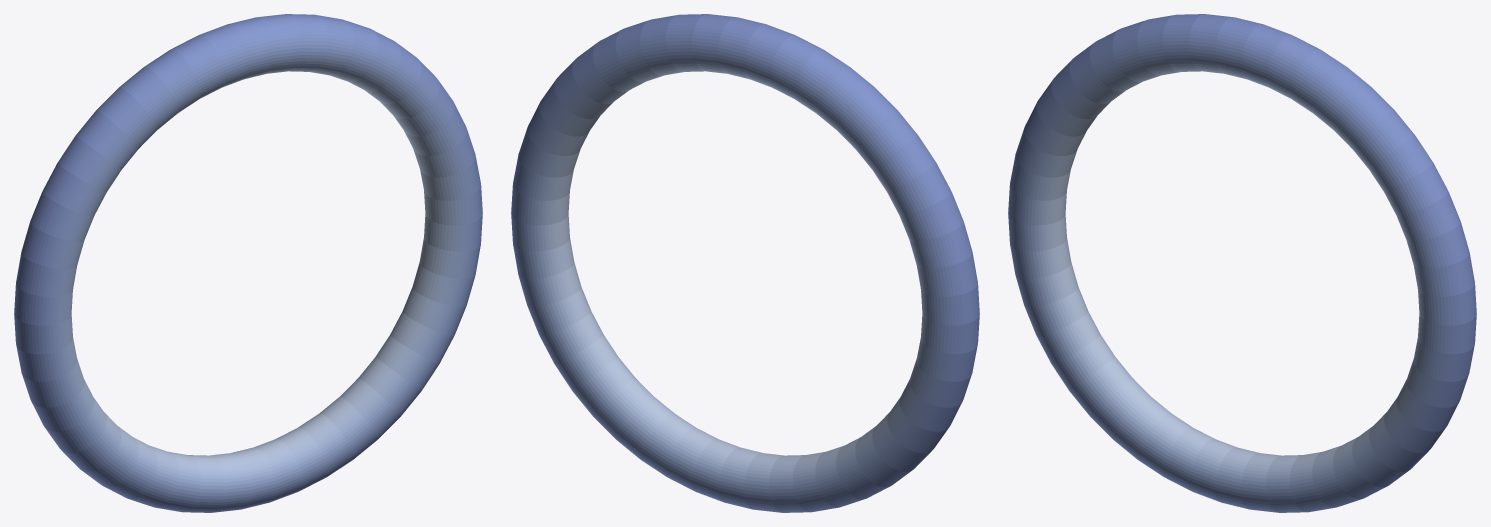
3 renders of one model, left to right at view 1: azimuth 30°, elevation 25°; view 2: azimuth 150°, elevation 25°; view 3: azimuth 330°, elevation 25°, orthographic.
Visible parts, largest first — view 1: world; view 2: world; view 3: world.
Part boxes in pixels (x1,y1,x2,y2): world: [14, 14, 482, 512]; world: [511, 14, 979, 512]; world: [1008, 14, 1476, 512].
Bounding box in the file's own units: 28.4 × 28.34 × 3.06.
